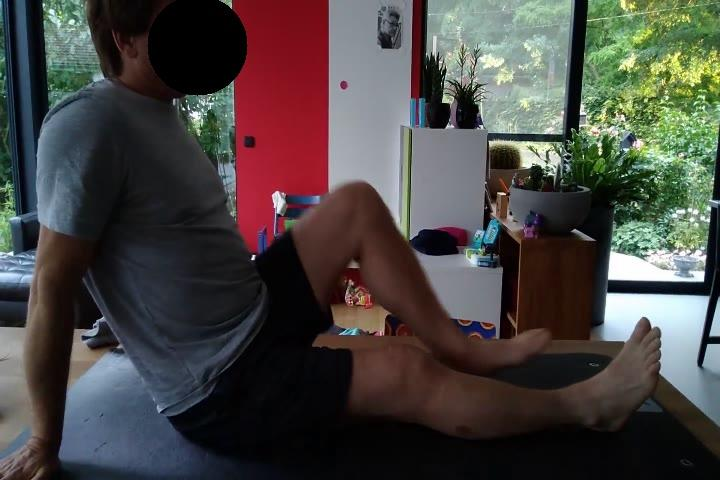lower_body: (170, 179, 662, 439)
